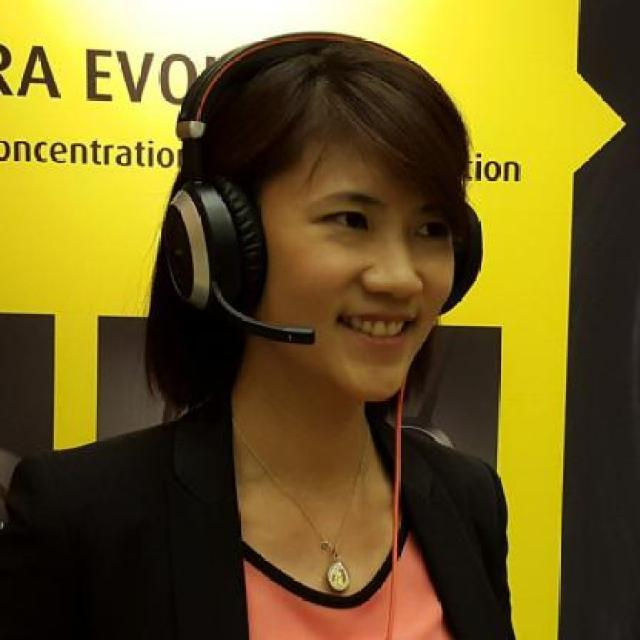earphone: (145, 37, 327, 383)
